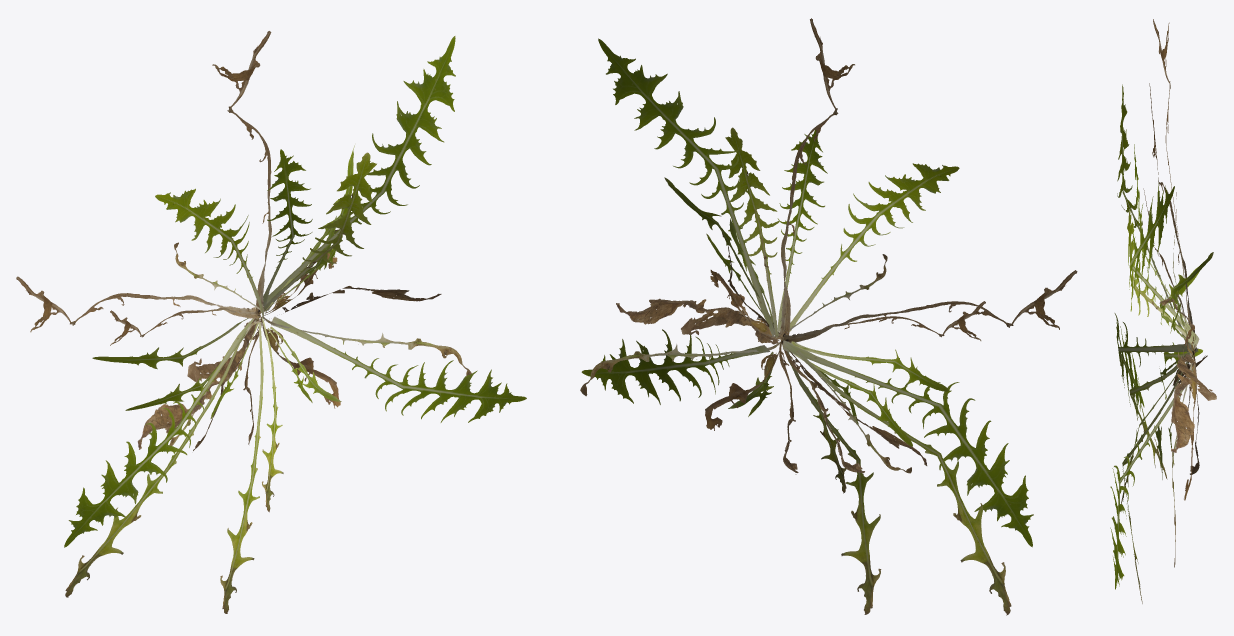
Rendered from Weed_02_Var2_LOD2.fbx.
The picture shows the model from 3 angles, left to right: view 1: azimuth 30°, elevation 25°; view 2: azimuth 150°, elevation 25°; view 3: azimuth 270°, elevation 25°; orthographic projection. The views are drawn at different scales.
Parts seen in each view (by area): view 1: Var2_LOD2; view 2: Var2_LOD2; view 3: Var2_LOD2.
Part boxes in pixels (x1,y1,x2,y2): Var2_LOD2: (16, 31, 526, 613); Var2_LOD2: (580, 18, 1077, 615); Var2_LOD2: (1110, 19, 1216, 603).
Size of the model in its own units: 56.06 by 60.79 by 9.97.
